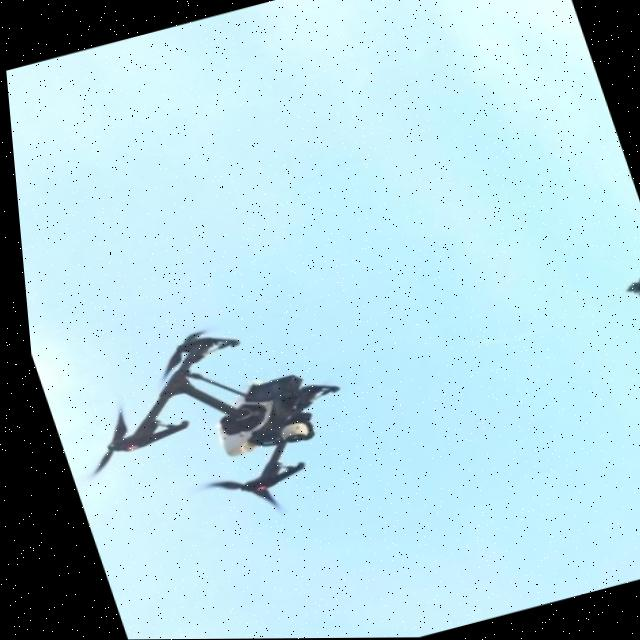drones: (25, 301, 365, 560)
